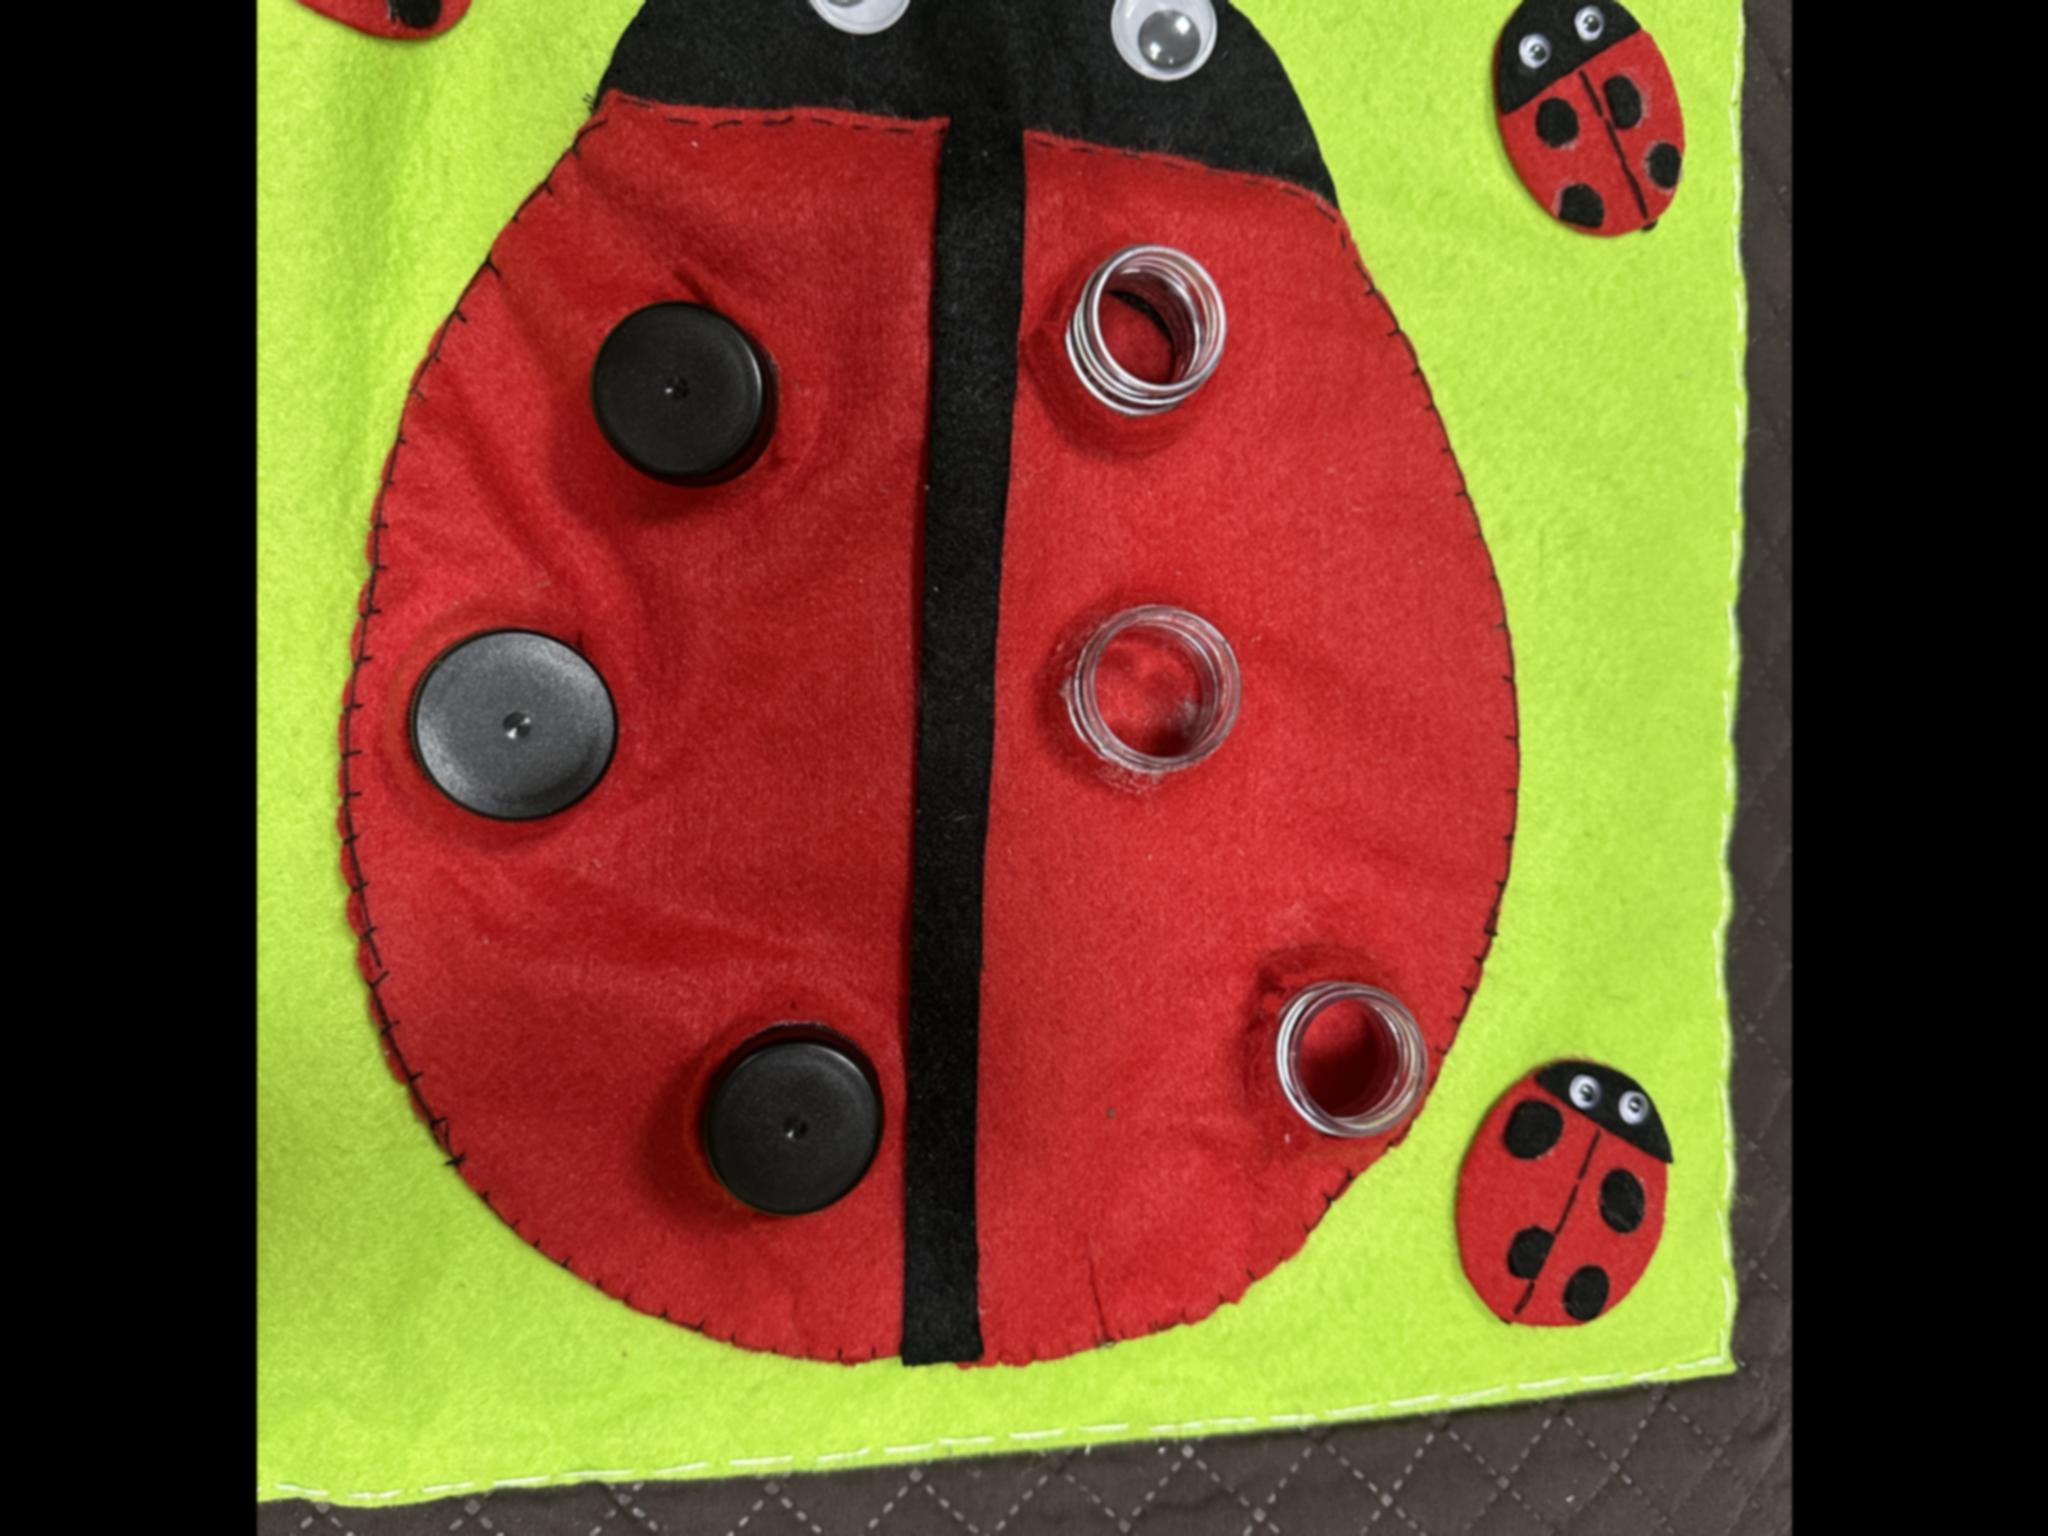cap_ok: (377, 574, 684, 873), (645, 997, 903, 1263), (550, 274, 803, 536)
